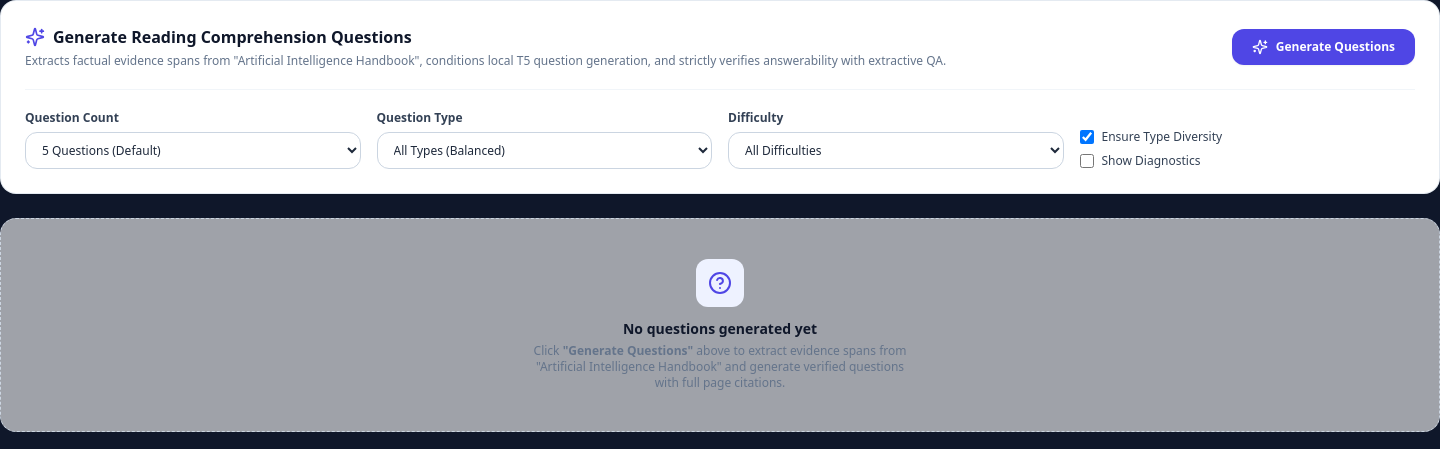
Test: QuestionGenerator Frontend Component Tests › 5. Handles API error gracefully
Step 1. Click the button "Generate Questions" → (1323, 47), box [1232,29,1415,65]
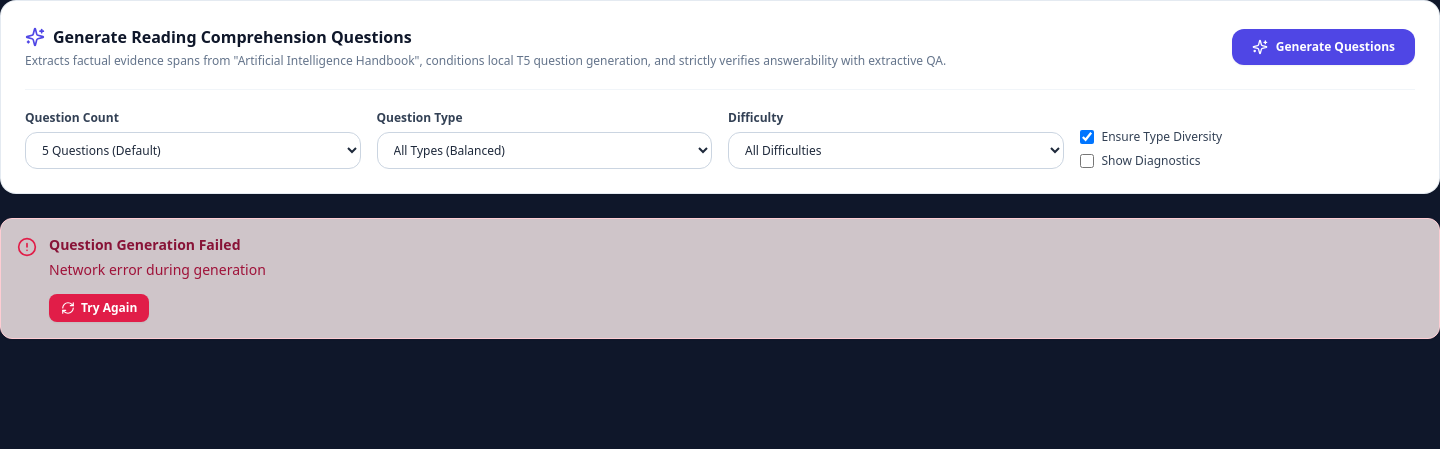
Now the text "Network error during generation" is shown, box [49,260,266,279]
